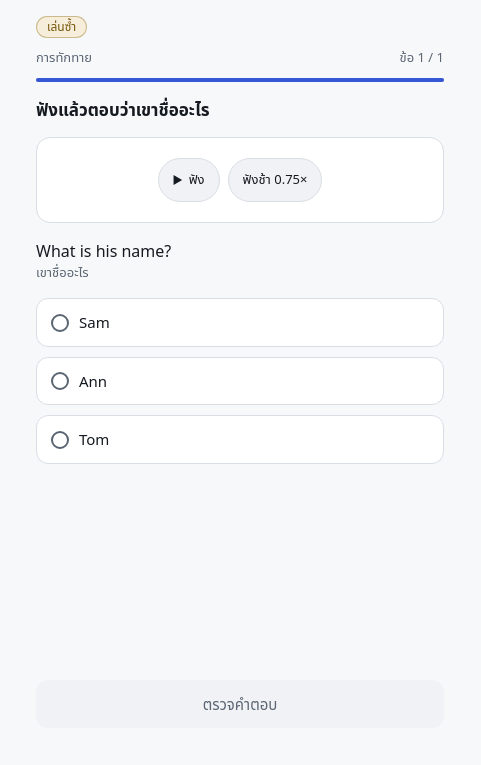
Test case: LessonPlayer in practice mode › sends every attempt as source practice, retry round included, and never completeLesson
Click the radio button labelled "Ann".
click(60, 381)  # box [36, 357, 444, 405]
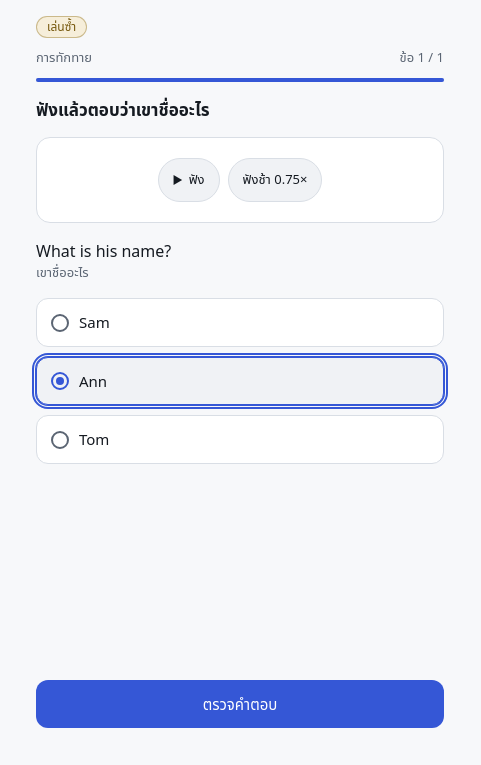
Click the button "ตรวจคำตอบ".
click(240, 704)  # box [36, 680, 444, 728]
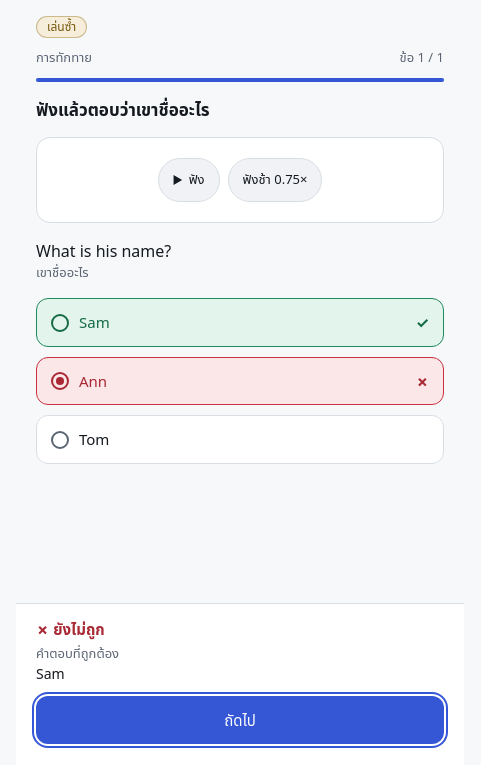
Click the button "ถัดไป".
click(240, 720)  # box [36, 696, 444, 744]
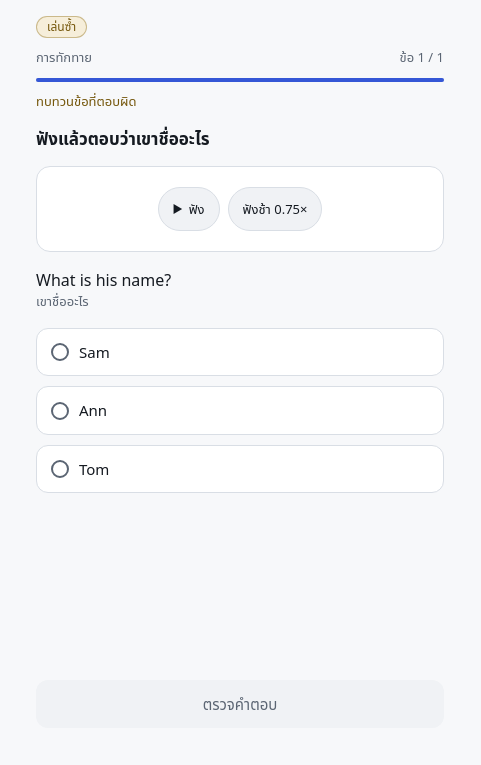
Expected: the text "เล่นซ้ำ" is shown, [36, 16, 87, 38]
Now the text "ทบทวนข้อที่ตอบผิด" is shown, box [36, 92, 137, 110]
Click the radio button labelled "Sam".
click(94, 352)  # box [36, 328, 444, 376]
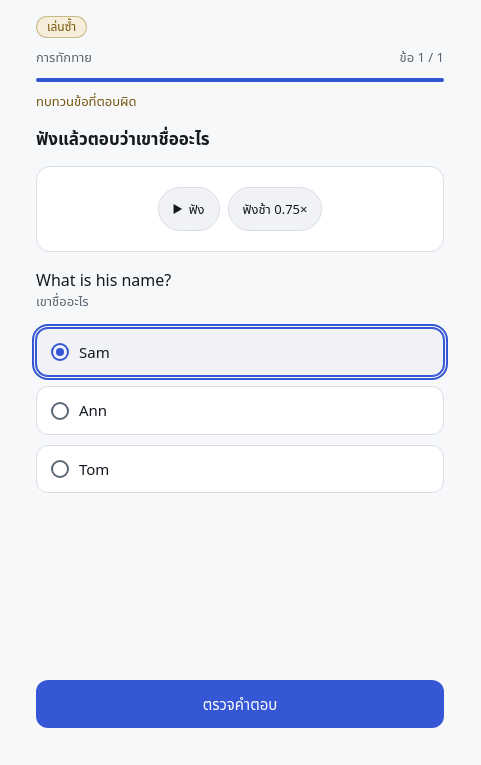
Click the button "ตรวจคำตอบ".
click(240, 704)  # box [36, 680, 444, 728]
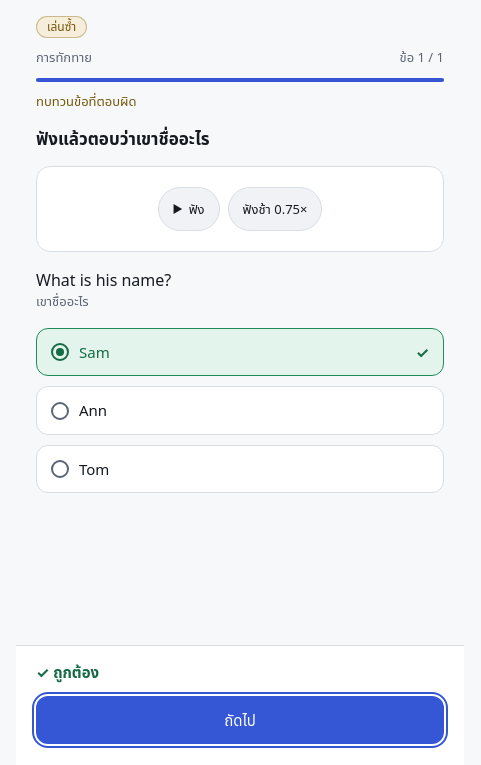
Click the button "ถัดไป".
click(240, 720)  # box [36, 696, 444, 744]
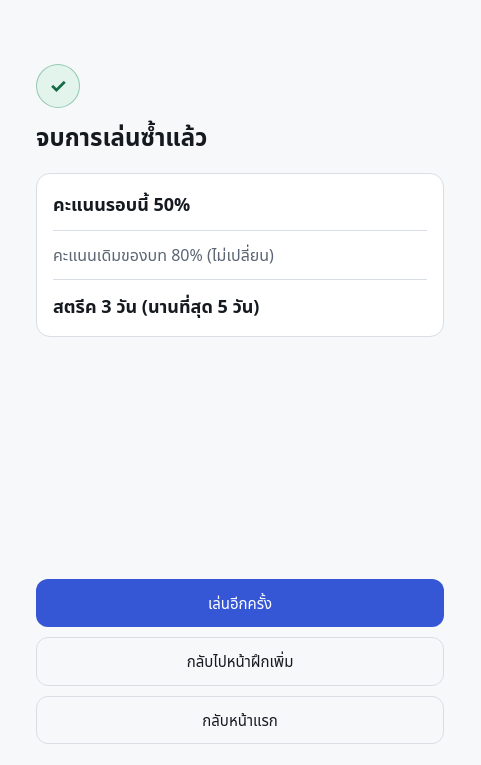
Now the heading "จบการเล่นซ้ำแล้ว" is shown, box [36, 120, 207, 153]
